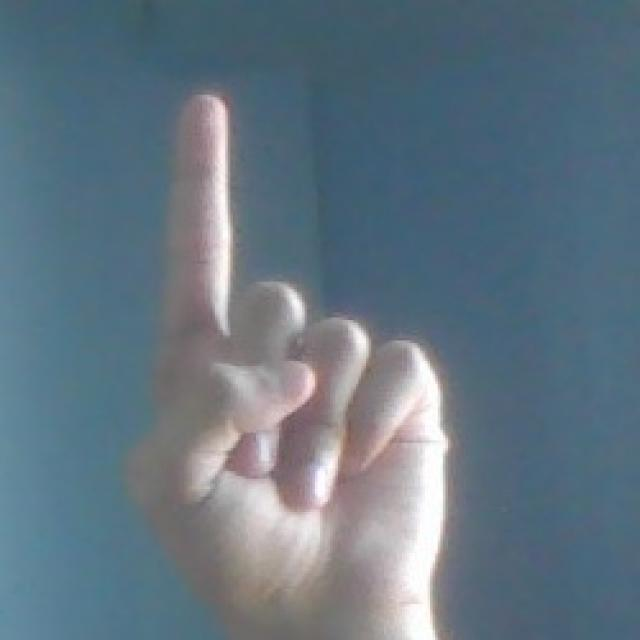Numeric-1: (123, 87, 450, 620)
